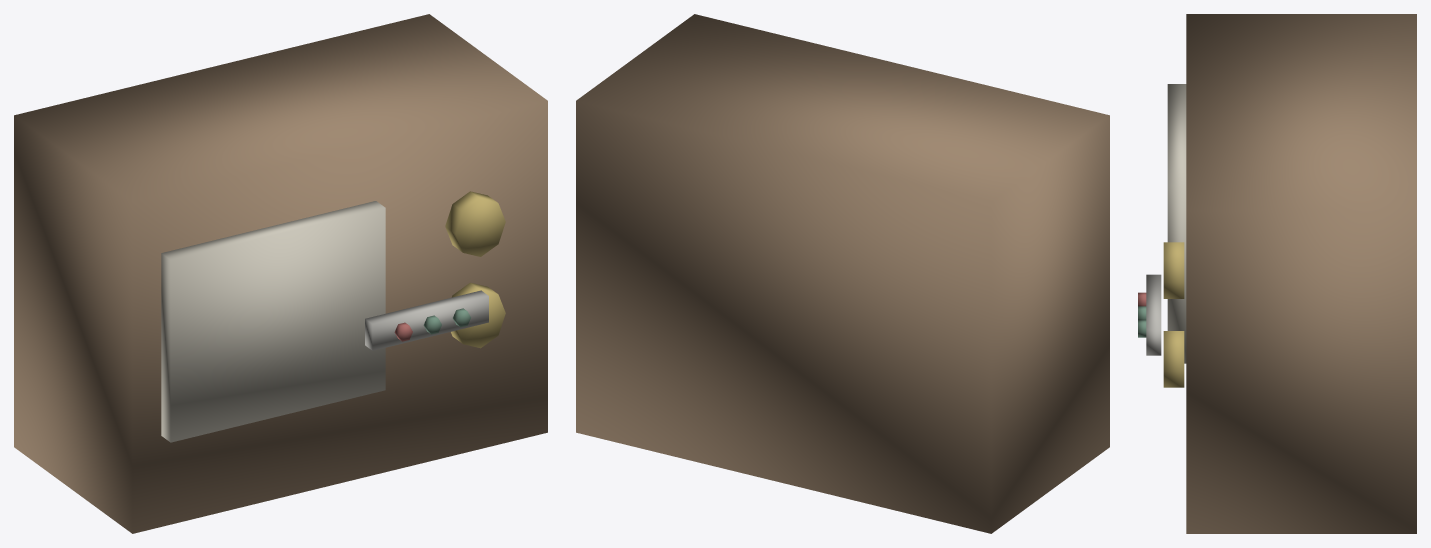
The model's file is tube_radio__compact.glb.
3 renders of one model, left to right at view 1: azimuth 30°, elevation 25°; view 2: azimuth 150°, elevation 25°; view 3: azimuth 270°, elevation 25°, orthographic. The views are drawn at different scales.
Parts seen in each view (by area): view 1: world; view 2: world; view 3: world.
Part boxes in pixels (<box>): world: <box>14,14,547,533</box>; world: <box>576,14,1109,533</box>; world: <box>1138,14,1416,533</box>.
Bounding box in the file's own units: 0.4872 × 0.372 × 0.2911.
